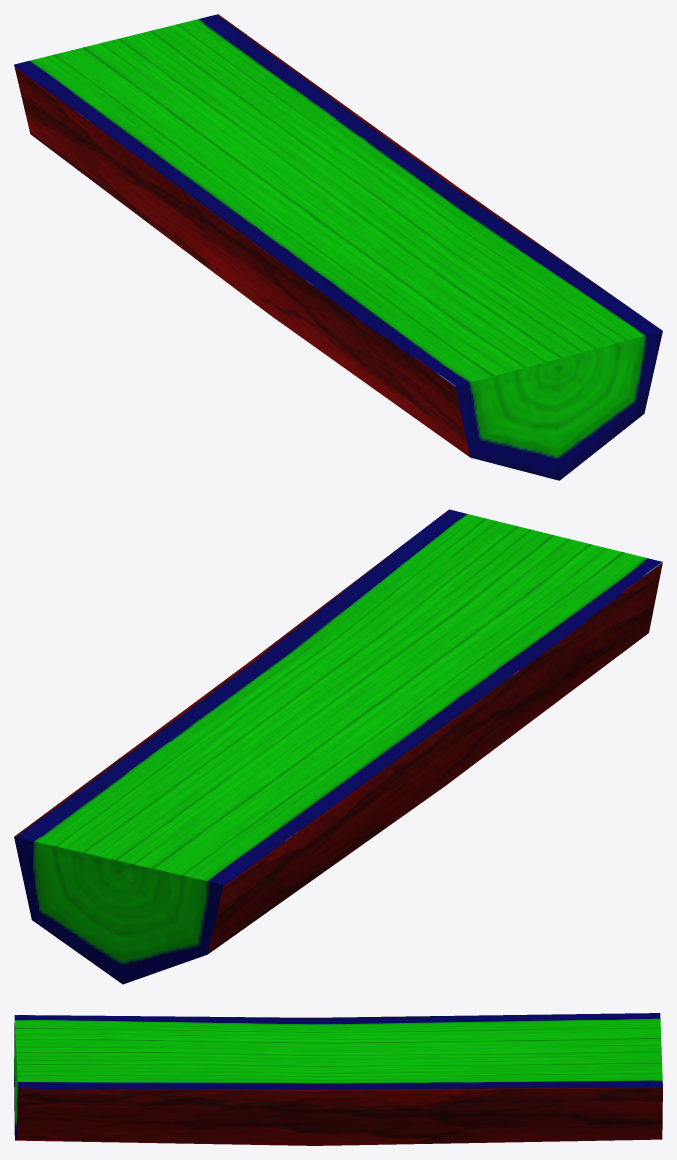
The model's file is Firewood05.fbx.
The picture shows the model from 3 angles, top to bottom: view 1: azimuth 30°, elevation 25°; view 2: azimuth 150°, elevation 25°; view 3: azimuth 270°, elevation 25°; orthographic projection. The views are drawn at different scales.
Visible parts, largest first — view 1: Firewood05_LOD0; view 2: Firewood05_LOD0; view 3: Firewood05_LOD0.
Boxes of the visible parts, x1=… form: Firewood05_LOD0: x1=14, y1=14, x2=662, y2=480; Firewood05_LOD0: x1=14, y1=509, x2=662, y2=984; Firewood05_LOD0: x1=14, y1=1013, x2=662, y2=1145.
Size of what is drawn, in the model's own units: 0.2217 by 0.1292 by 0.7972.
